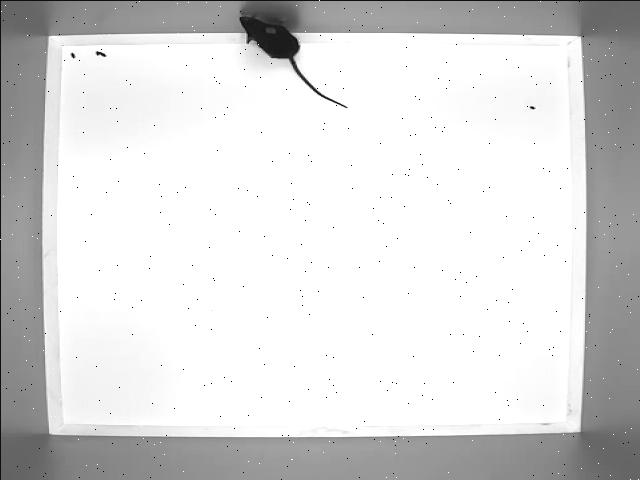Tikus: (231, 10, 355, 112)
